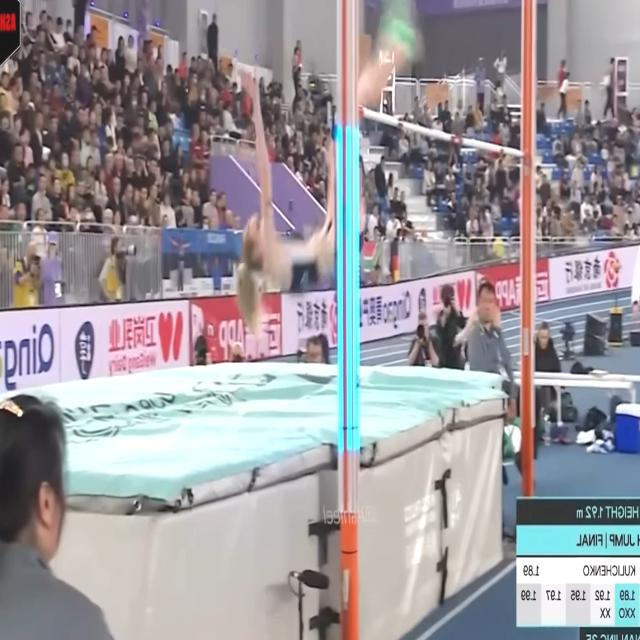land: (239, 0, 416, 301)
